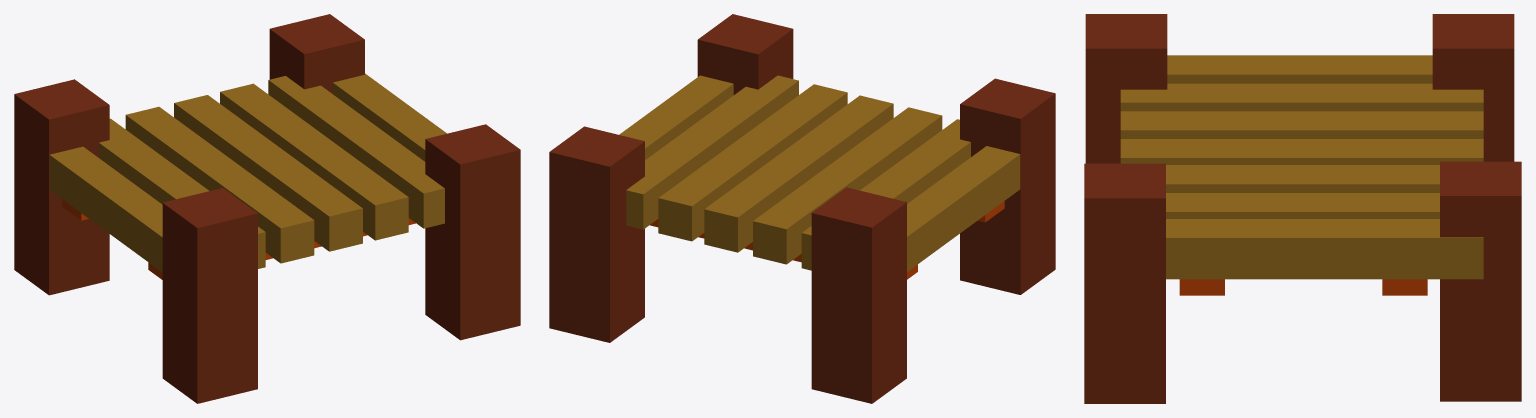
The model's file is bridge.fbx.
The picture shows the model from 3 angles, left to right: view 1: azimuth 30°, elevation 25°; view 2: azimuth 150°, elevation 25°; view 3: azimuth 270°, elevation 25°; orthographic projection. The views are drawn at different scales.
Visible parts, largest first — view 1: Cube.003, Cube.001, Cube.004, Cube.012, Cube.006, Cube.005, Cube.007, Cube.009, Cube.002, Cube.008, Cube.010; view 2: Cube.004, Cube.002, Cube.003, Cube.012, Cube.006, Cube.005, Cube.007, Cube.009, Cube.001, Cube.008, Cube.010; view 3: Cube.001, Cube.010, Cube.002, Cube.005, Cube.008, Cube.012, Cube.003, Cube.004, Cube.009, Cube.006, Cube.007, Cube (+1 smaller).
Boxes of the visible parts, left/top/right/bottom form: Cube.003: left=162, top=188, right=257, bottom=403; Cube.001: left=425, top=124, right=520, bottom=340; Cube.004: left=14, top=79, right=109, bottom=295; Cube.012: left=174, top=95, right=362, bottom=251; Cube.006: left=220, top=83, right=408, bottom=240; Cube.005: left=125, top=106, right=314, bottom=263; Cube.007: left=268, top=76, right=444, bottom=228; Cube.009: left=49, top=146, right=162, bottom=272; Cube.002: left=269, top=14, right=364, bottom=93; Cube.008: left=99, top=118, right=265, bottom=268; Cube.010: left=332, top=73, right=446, bottom=161; Cube.004: left=811, top=187, right=906, bottom=403; Cube.002: left=549, top=126, right=644, bottom=342; Cube.003: left=960, top=78, right=1055, bottom=294; Cube.012: left=704, top=95, right=893, bottom=252; Cube.006: left=658, top=84, right=847, bottom=241; Cube.005: left=753, top=107, right=942, bottom=264; Cube.007: left=626, top=75, right=798, bottom=229; Cube.009: left=907, top=146, right=1020, bottom=271; Cube.001: left=697, top=14, right=793, bottom=94; Cube.008: left=801, top=119, right=970, bottom=270; Cube.010: left=619, top=75, right=733, bottom=159; Cube.001: left=1084, top=163, right=1165, bottom=403; Cube.010: left=1166, top=219, right=1483, bottom=279; Cube.002: left=1440, top=161, right=1521, bottom=401; Cube.005: left=1120, top=111, right=1483, bottom=138; Cube.008: left=1120, top=83, right=1483, bottom=111; Cube.012: left=1120, top=139, right=1483, bottom=164; Cube.003: left=1085, top=14, right=1167, bottom=163; Cube.004: left=1432, top=14, right=1514, bottom=161; Cube.009: left=1167, top=55, right=1432, bottom=83; Cube.006: left=1166, top=165, right=1439, bottom=192; Cube.007: left=1166, top=193, right=1439, bottom=218; Cube: left=1382, top=279, right=1427, bottom=295.
Size of the model in its own units: 192 by 100 by 193.
